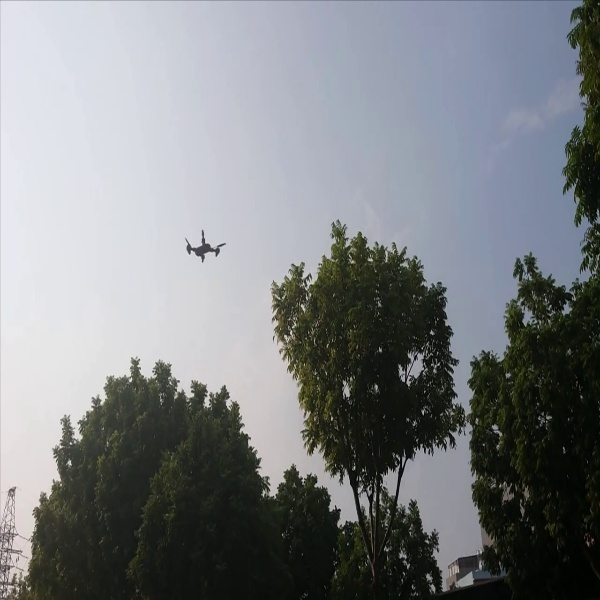drone: (179, 224, 231, 268)
